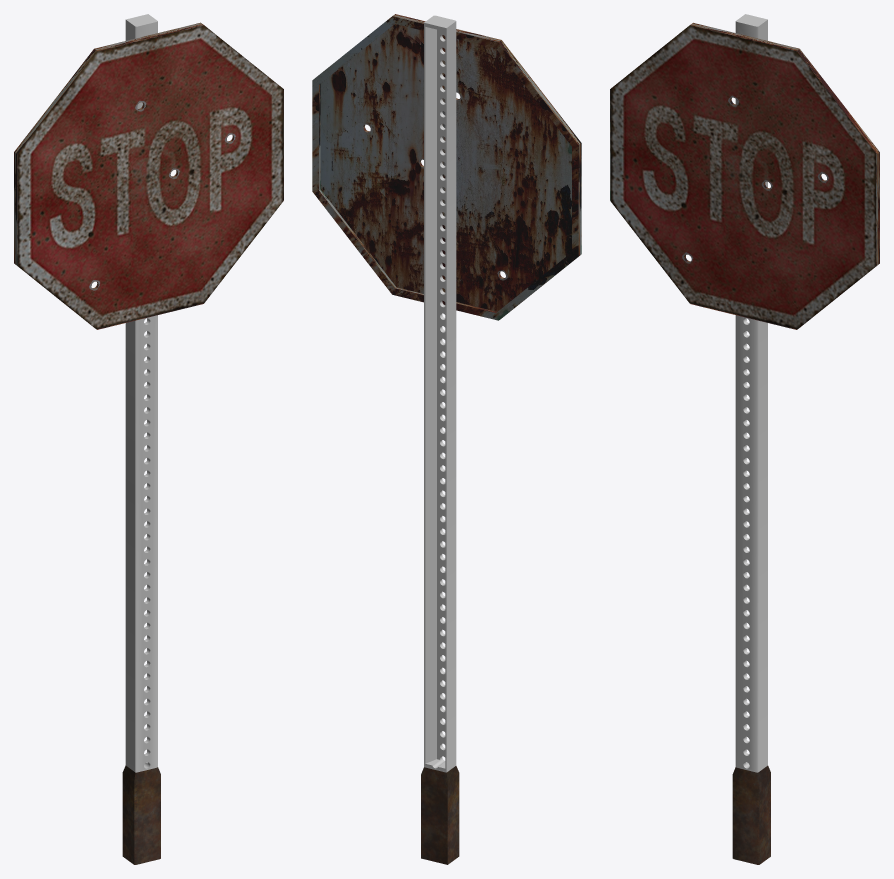
Rendered from Stop Sign.FBX.
The picture shows the model from 3 angles, left to right: view 1: azimuth 30°, elevation 25°; view 2: azimuth 150°, elevation 25°; view 3: azimuth 330°, elevation 25°; orthographic projection.
Parts seen in each view (by area): view 1: Stop Sign; view 2: Stop Sign; view 3: Stop Sign.
Boxes of the visible parts, left/top/right/bottom form: Stop Sign: left=14, top=14, right=283, bottom=864; Stop Sign: left=312, top=14, right=581, bottom=864; Stop Sign: left=610, top=14, right=879, bottom=864.
Size of the model in its own units: 100 by 300 by 9.35.
